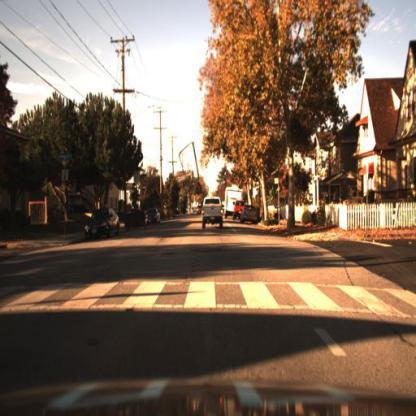car: (83, 208, 123, 242), (198, 192, 227, 232), (143, 205, 164, 228), (244, 207, 260, 226), (233, 199, 247, 220)
truck: (224, 179, 246, 219)
